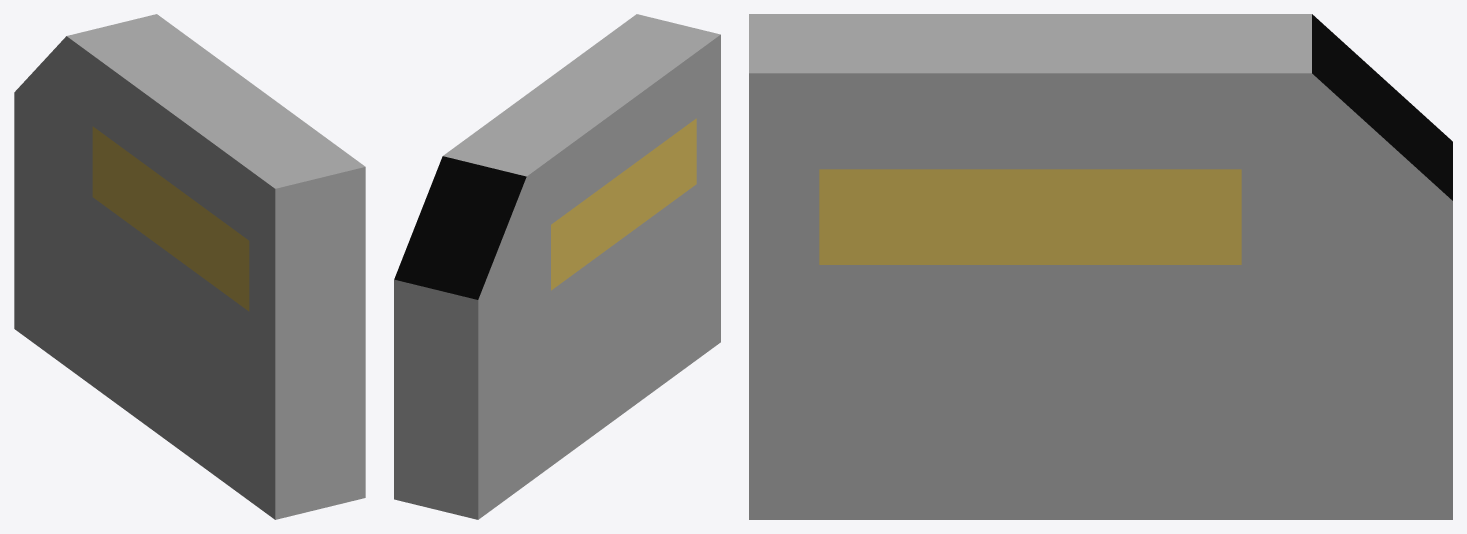
The model's file is medicine_box_45.dae.
3 views of the same model, side by side, from view 1: azimuth 30°, elevation 25°; view 2: azimuth 150°, elevation 25°; view 3: azimuth 270°, elevation 25° (orthographic). The views are drawn at different scales.
Parts seen in each view (by area): view 1: Cube 1; view 2: Cube 1; view 3: Cube 1.
Boxes of the visible parts, left/top/right/bottom form: Cube 1: left=14, top=14, right=365, bottom=519; Cube 1: left=394, top=14, right=720, bottom=519; Cube 1: left=749, top=14, right=1452, bottom=519.
Size of the model in its own units: 0.02 by 0.1 by 0.07.
